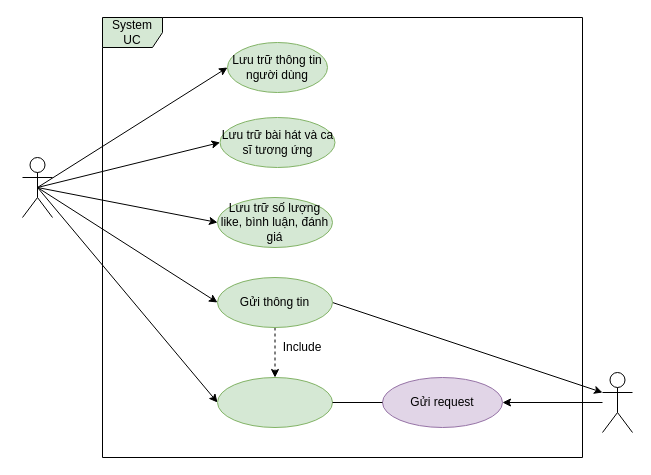
Image size: 651x475. Some labels were removed from this diagram. Each missing label, with the box of its shape:
Admin: (602, 372, 632, 432)
Nhận request: (216, 376, 332, 428)
System: (22, 156, 52, 218)
